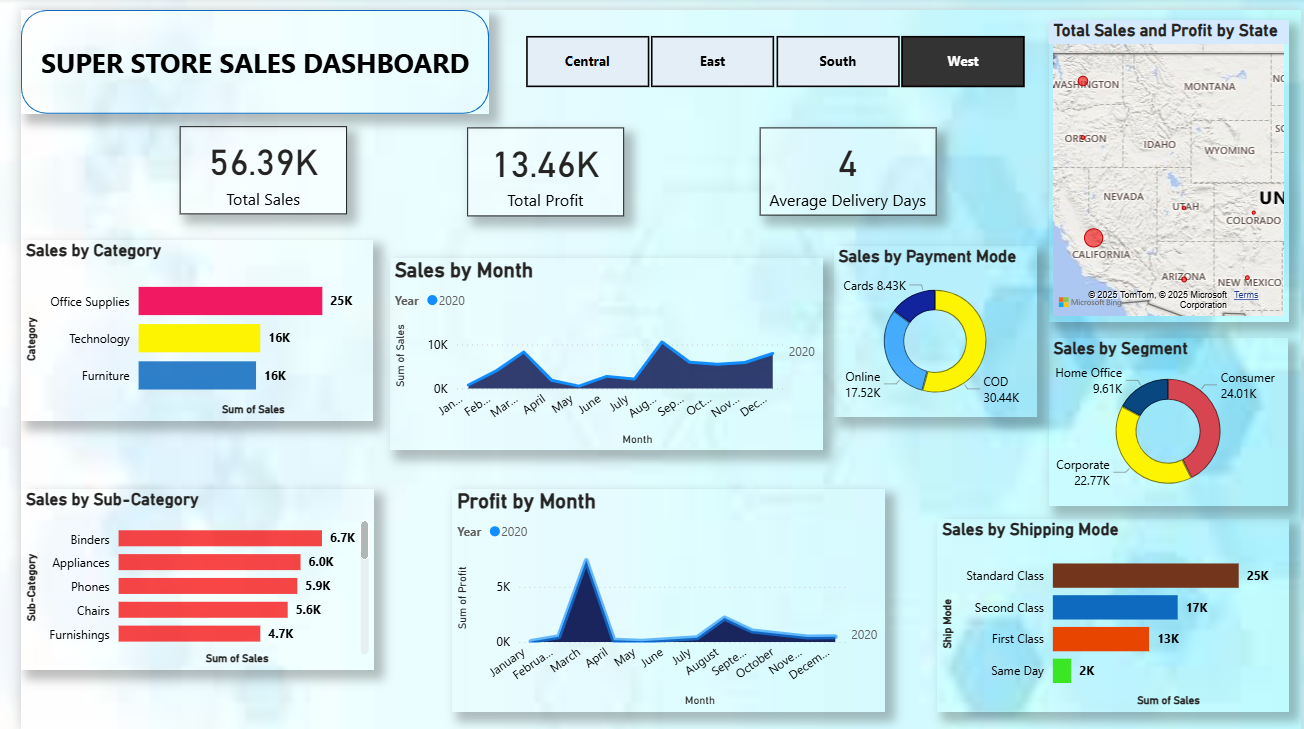

This screenshot's page, from the dashboard's own definition file:
{"tool":"powerbi","page":{"name":"Dashboard","canvas":[1280,720],"ordinal":0},"visuals":[{"type":"barChart","title":" Sales by Category","fields":{"Category":["Superstore.Category"],"Y":["Sum(Superstore.Sales)"]},"box":[0,230.4,352.3,181],"z":0},{"type":"barChart","title":" Sales by Shipping Mode","fields":{"Category":["Superstore.Ship Mode"],"Y":["Sum(Superstore.Sales)"]},"box":[915.7,509.1,352.3,193],"z":1000},{"type":"stackedAreaChart","title":" Sales by Month ","fields":{"Y":["Sum(Superstore.Sales)"],"Category":["Superstore.Order Date.Variation.Date Hierarchy.Month"],"Series":["Superstore.Order Date.Variation.Date Hierarchy.Year"]},"box":[369.2,247.3,433.1,193],"z":2000},{"type":"stackedAreaChart","title":" Profit by Month ","fields":{"Category":["Superstore.Order Date.Variation.Date Hierarchy.Month"],"Series":["Superstore.Order Date.Variation.Date Hierarchy.Year"],"Y":["Sum(Superstore.Profit)"]},"box":[430.7,479,433.1,223.2],"z":3000},{"type":"donutChart","title":"Sales by Segment","fields":{"Y":["Sum(Superstore.Sales)"],"Category":["Superstore.Segment"]},"box":[1027.9,327.9,239.5,168.6],"z":4000},{"type":"donutChart","title":"Sales by Payment Mode","fields":{"Category":["Superstore.Payment Mode"],"Y":["Sum(Superstore.Sales)"]},"box":[812.8,236,203.5,170.9],"z":5000},{"type":"shape","box":[0,0,468.1,103.8],"z":6000},{"type":"map","title":"Total Sales and Profit by State","fields":{"Category":["Superstore.State"],"Size":["Sum(Superstore.Sales)"]},"box":[1027.9,9.7,240.1,301.6],"z":7000},{"type":"barChart","title":" Sales by Sub-Category","fields":{"Category":["Superstore.Sub-Category"],"Y":["Sum(Superstore.Sales)"]},"box":[0,479.3,352.9,180.5],"z":8000},{"type":"slicer","fields":{"Values":["Superstore.Region"]},"box":[479,19.3,548.9,65.1],"z":9000},{"type":"card","title":"cv ","fields":{"Values":["Sum(Superstore.Sales)"]},"box":[159.3,116.3,167.4,88.4],"z":10000},{"type":"card","title":"cv ","fields":{"Values":["Sum(Superstore.Profit)"]},"box":[446.4,118,157,89.1],"z":11000},{"type":"card","title":"cv ","fields":{"Values":["Avg(Superstore.Avg_ship_day)"]},"box":[738.4,117.4,176.7,88.4],"z":13000}]}

Visuals, with their boxes in screenshot pixels (x1, y1, x2, y2), scaled from the page's 1280x720 canvas onto the 1304x729 screenshot:
" Sales by Category" barChart: 0:233:359:417
" Sales by Shipping Mode" barChart: 933:515:1292:711
" Sales by Month " stackedAreaChart: 376:250:817:446
" Profit by Month " stackedAreaChart: 439:485:880:711
"Sales by Segment" donutChart: 1047:332:1291:503
"Sales by Payment Mode" donutChart: 828:239:1035:412
shape: 0:0:477:105
"Total Sales and Profit by State" map: 1047:10:1292:315
" Sales by Sub-Category" barChart: 0:485:360:668
slicer - Superstore.Region: 488:20:1047:85
"cv " card: 162:118:333:207
"cv " card: 455:119:615:210
"cv " card: 752:119:932:208
